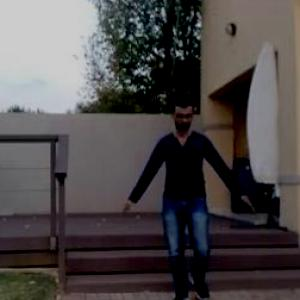land: (124, 78, 271, 298)
